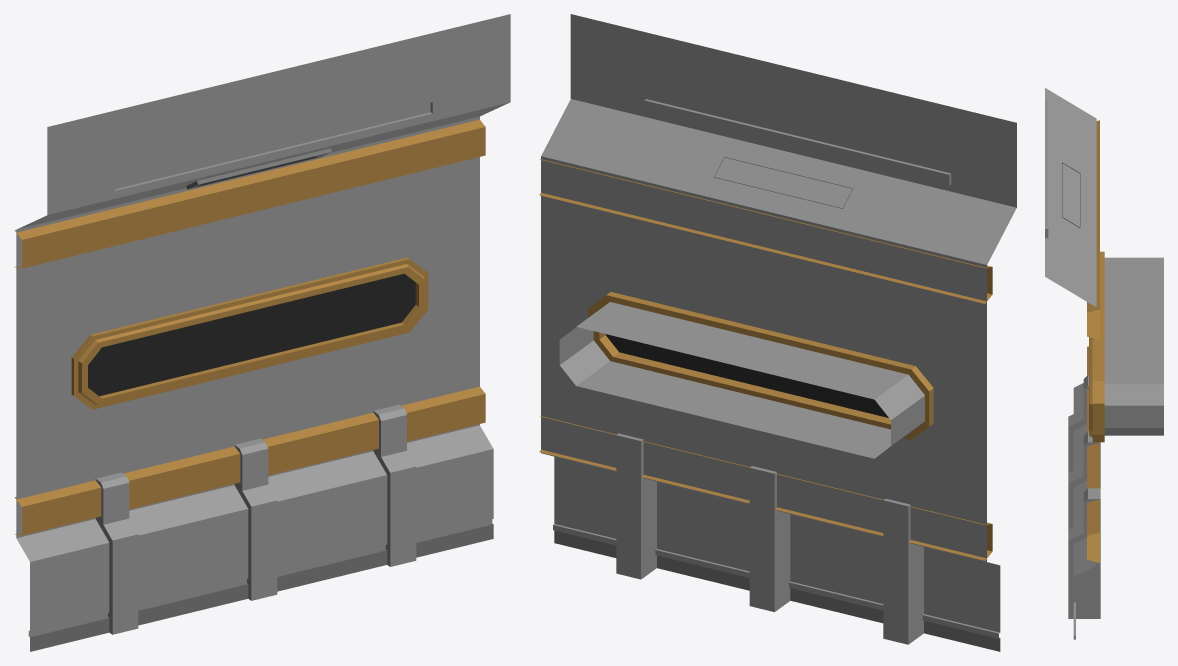
File: longwindow-wall-sidea-69ed57807f.glb
3 views of the same model, side by side, from view 1: azimuth 30°, elevation 25°; view 2: azimuth 150°, elevation 25°; view 3: azimuth 270°, elevation 25° (orthographic). The views are drawn at different scales.
Visible parts, largest first — view 1: LongWindow_Wall_SideA.obj; view 2: LongWindow_Wall_SideA.obj; view 3: LongWindow_Wall_SideA.obj.
Part boxes in pixels (x1=…): LongWindow_Wall_SideA.obj: x1=14, y1=14, x2=510, y2=651; LongWindow_Wall_SideA.obj: x1=539, y1=14, x2=1016, y2=651; LongWindow_Wall_SideA.obj: x1=1045, y1=88, x2=1163, y2=639.
Bounding box in the file's own units: 4 × 4.43 × 1.06.
